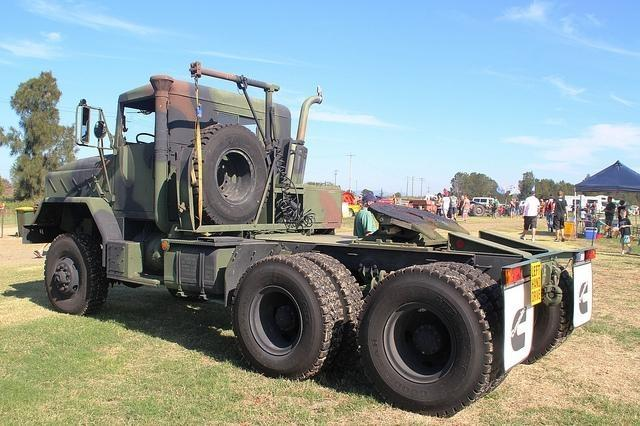car: (348, 204, 362, 218), (398, 198, 409, 204)
truck: (23, 60, 598, 418)
